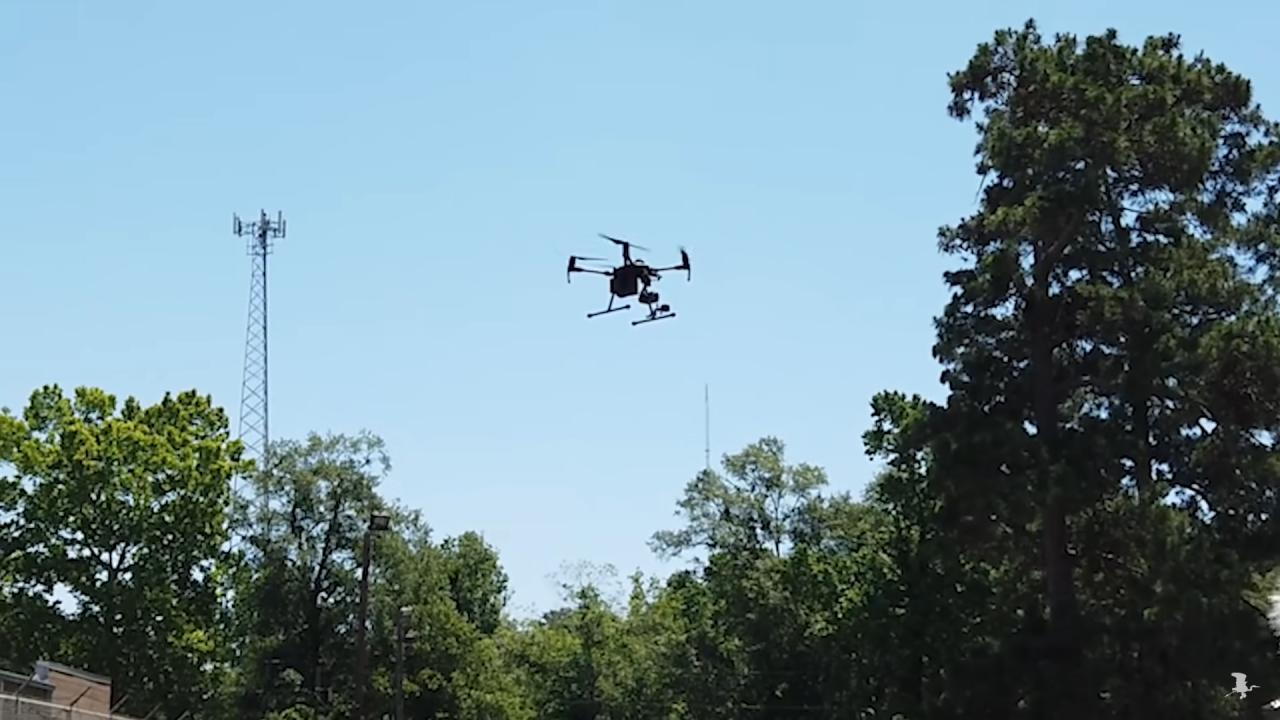Drone: (554, 223, 701, 338)
